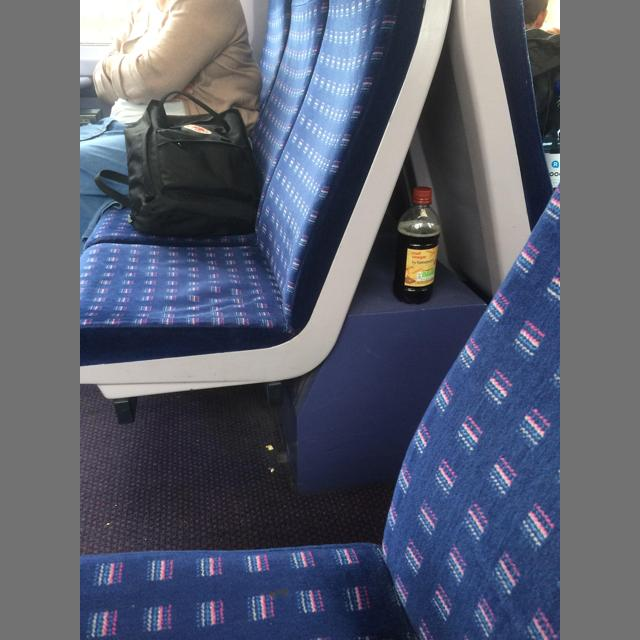litter: (393, 186, 441, 305), (542, 80, 560, 191), (413, 186, 432, 200)
